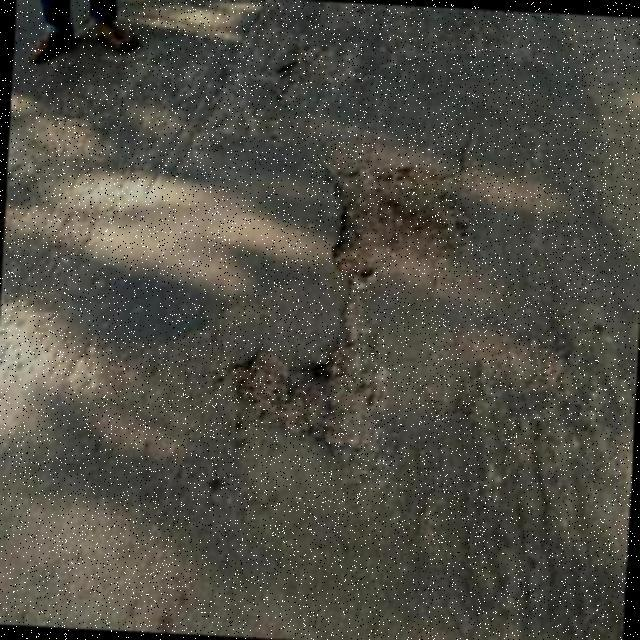Pothole: (230, 164, 473, 452)
